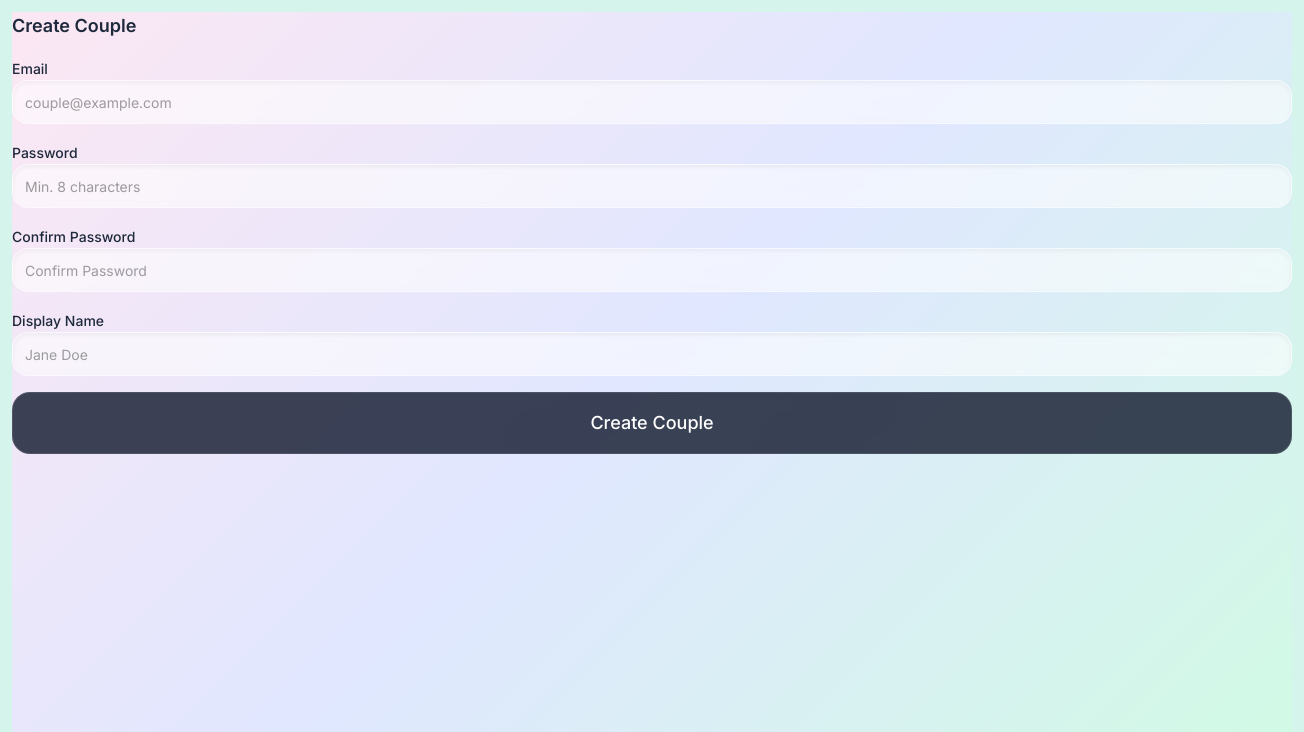
Test: CreateCoupleForm › shows validation errors for empty required fields on submit
This screenshot has width=1304, height=732.
Step 1. Click the button "Create Couple" → (652, 423), box [12,392,1292,454]
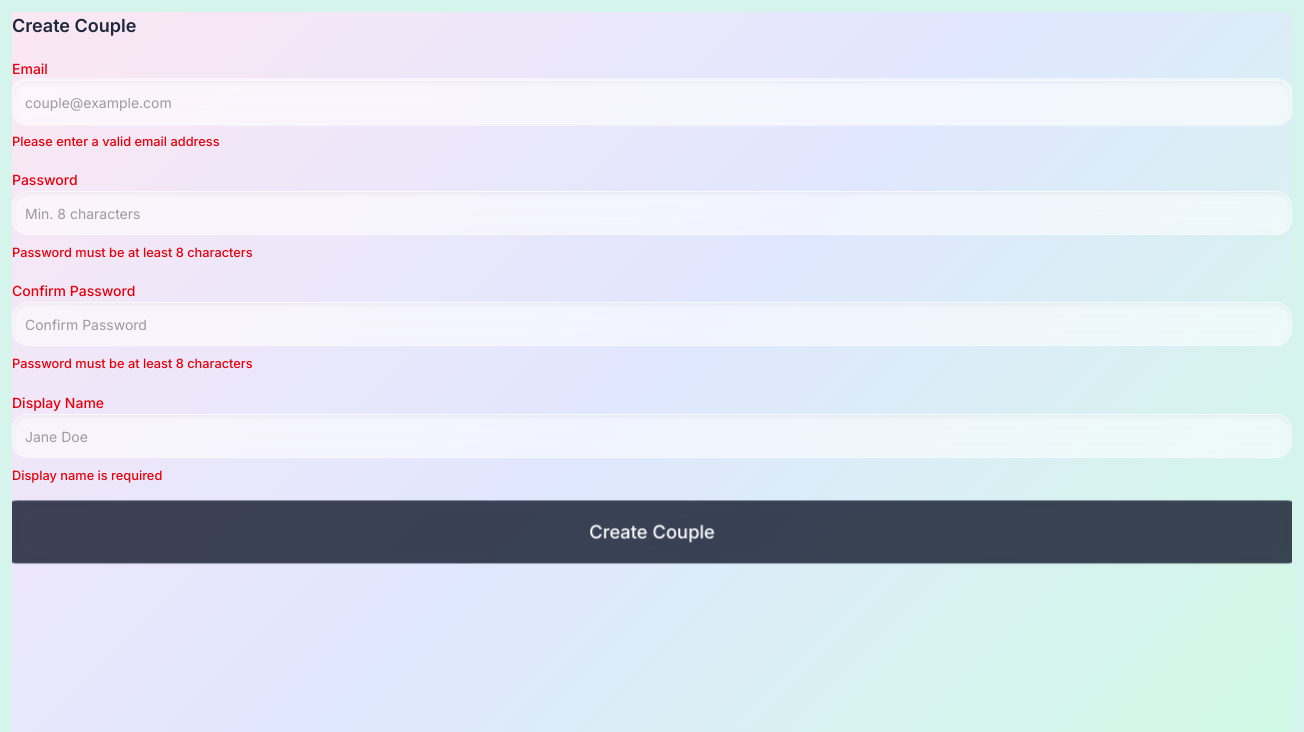
Check: the text "Please enter a valid email address" is shown, box [12,134,220,149]
